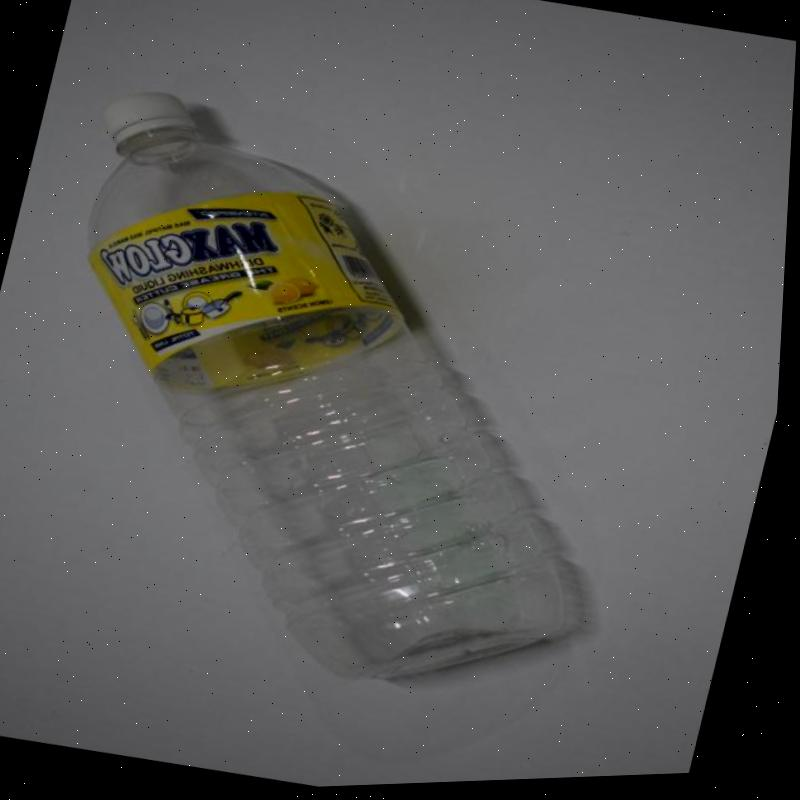botella: (0, 66, 681, 733)
